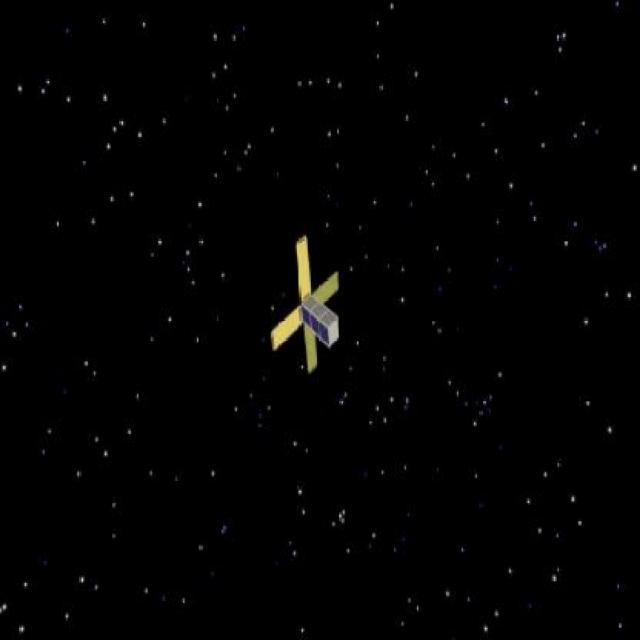satellite: (256, 233, 362, 371)
